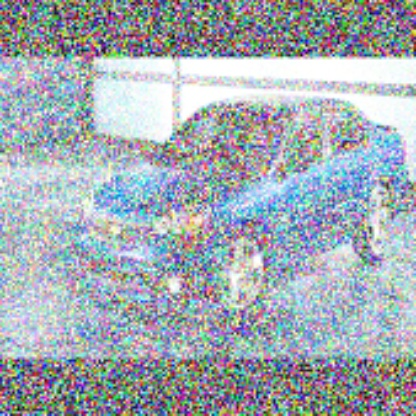Vehicle: (71, 96, 412, 327)
